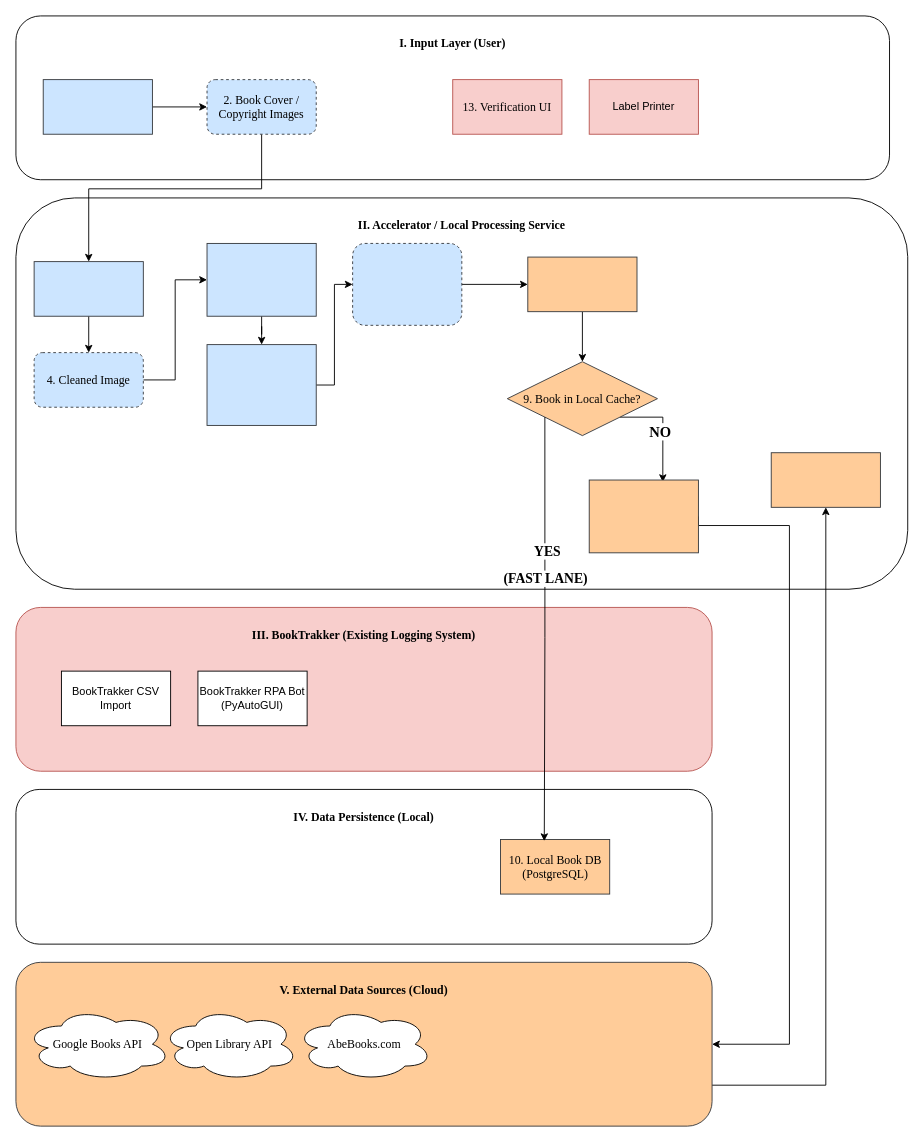
This 924x1142 diagram has some shape labels left out. The centre of each missing label's shape, as x and y in pixels:
1. User: [97,106]
11. Parallel API Query Module: [643,516]
12. Consolidated Metadata: [825,479]
3. Image Preprocessing (OpenCV): [88,288]
5. OCR Engine: [261,279]
6. Text Structuring & Heuristics Engine (Python Regex): [261,384]
7. Structured JSON {title: "...", author: "...", year: "..."}: [407,284]
8. Search Ochestrator: [582,284]
